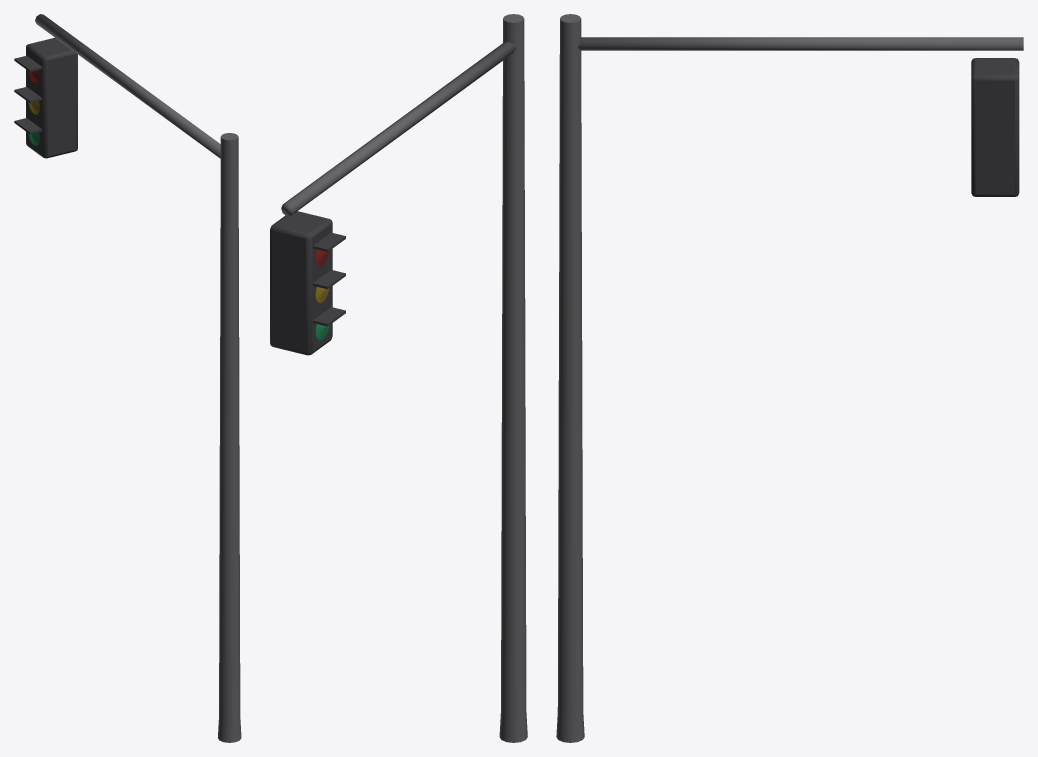
Rendered from tlight.glb.
3 renders of one model, left to right at view 1: azimuth 30°, elevation 25°; view 2: azimuth 150°, elevation 25°; view 3: azimuth 270°, elevation 25°, orthographic. The views are drawn at different scales.
Visible parts, largest first — view 1: tlight; view 2: tlight; view 3: tlight.
Boxes of the visible parts, x1,y1,x2,y2 form: tlight: (14,14,241,742); tlight: (270,14,527,742); tlight: (556,14,1023,742).
Bounding box in the file's own units: 0.46 × 5.6 × 3.3.
